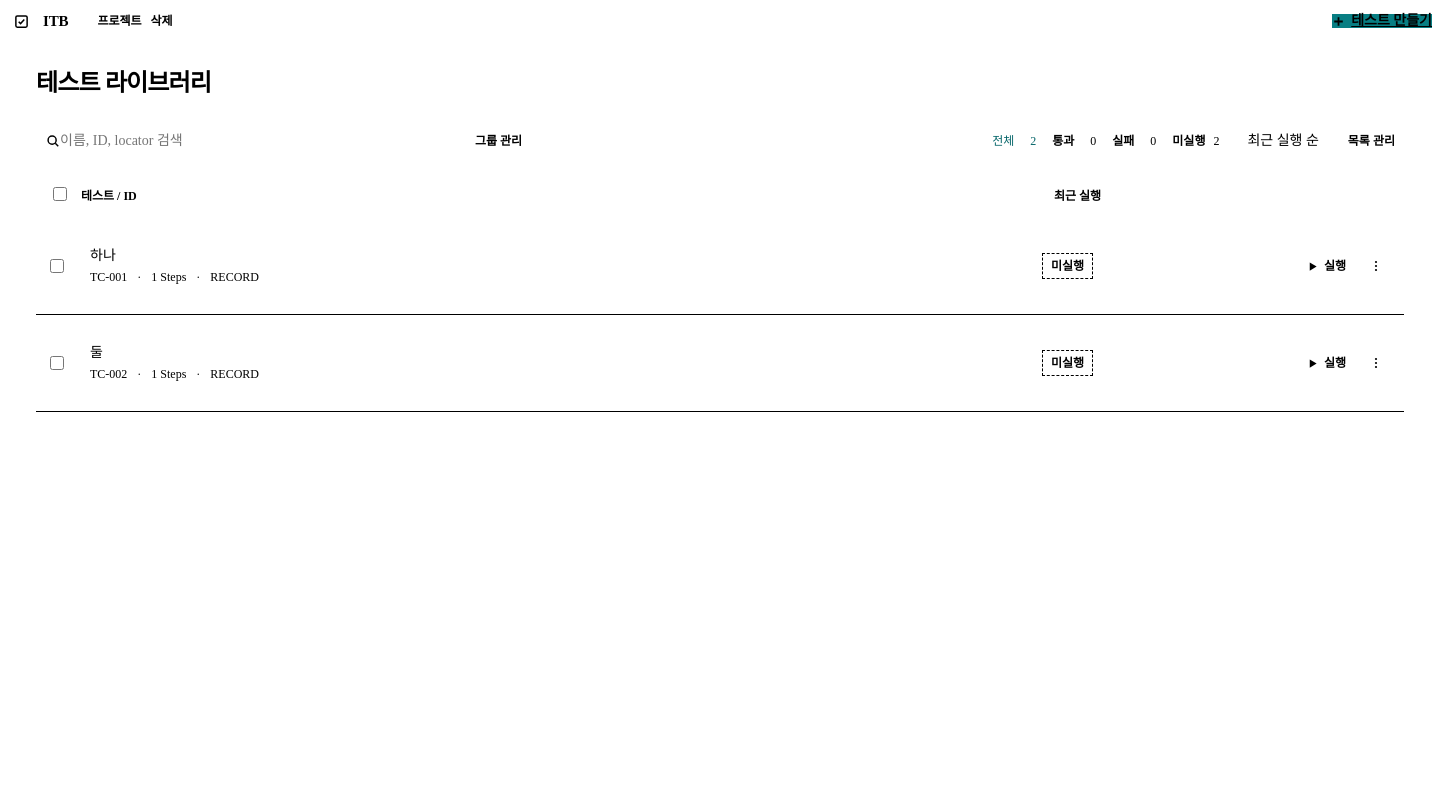
Test: 이미 없던 것을 옮겼다고 말하지 않는다 (AS-046) › 섞여 있으면 둘 다 말한다 — 옮긴 자리도, 이미 없던 것도
Expected: the text "하나" is shown, [90,248,116,263]
Click the checkbox named "하나 선택" at [57, 266], box [50,259,64,273]
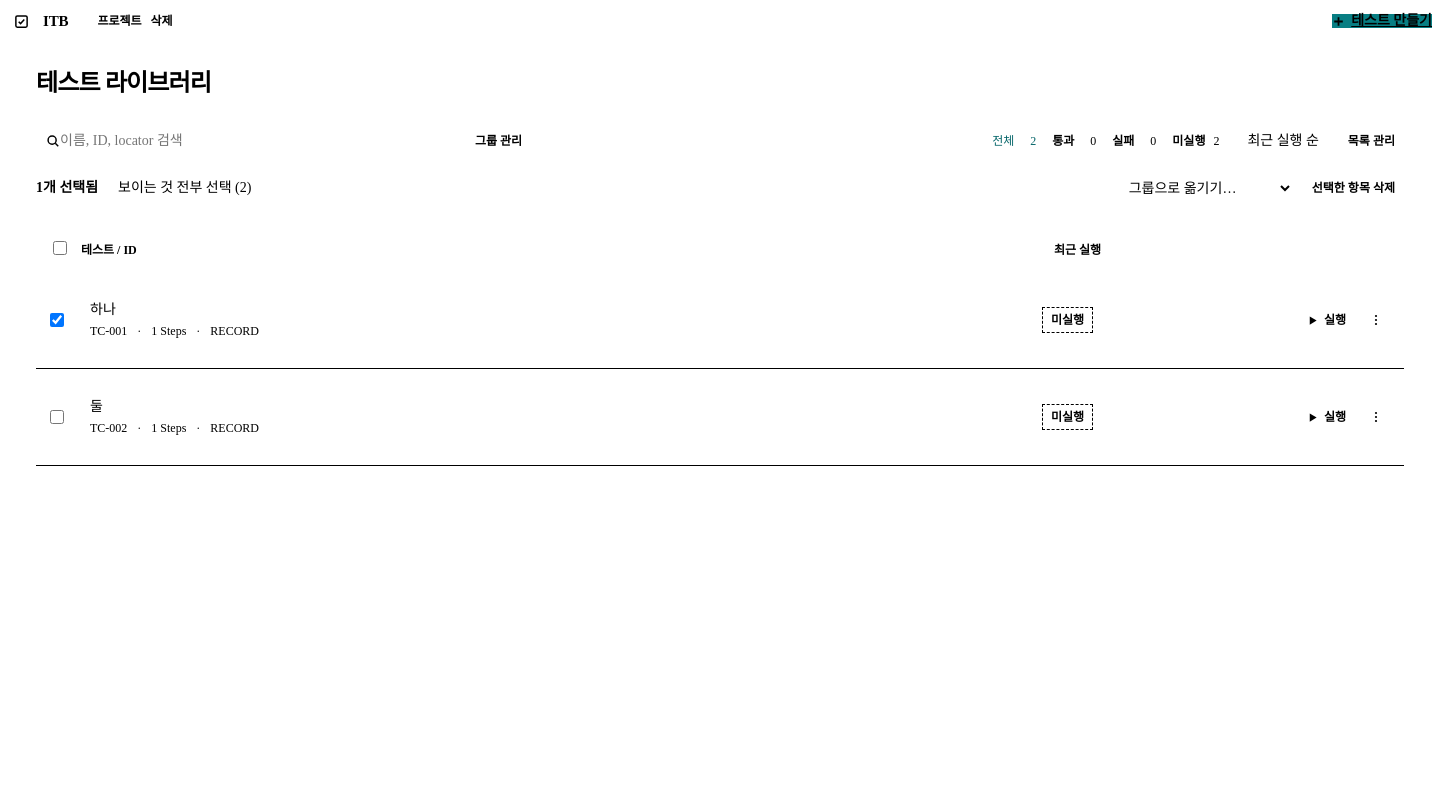
Click the checkbox named "둘 선택" at [57, 417], box [50,410,64,424]
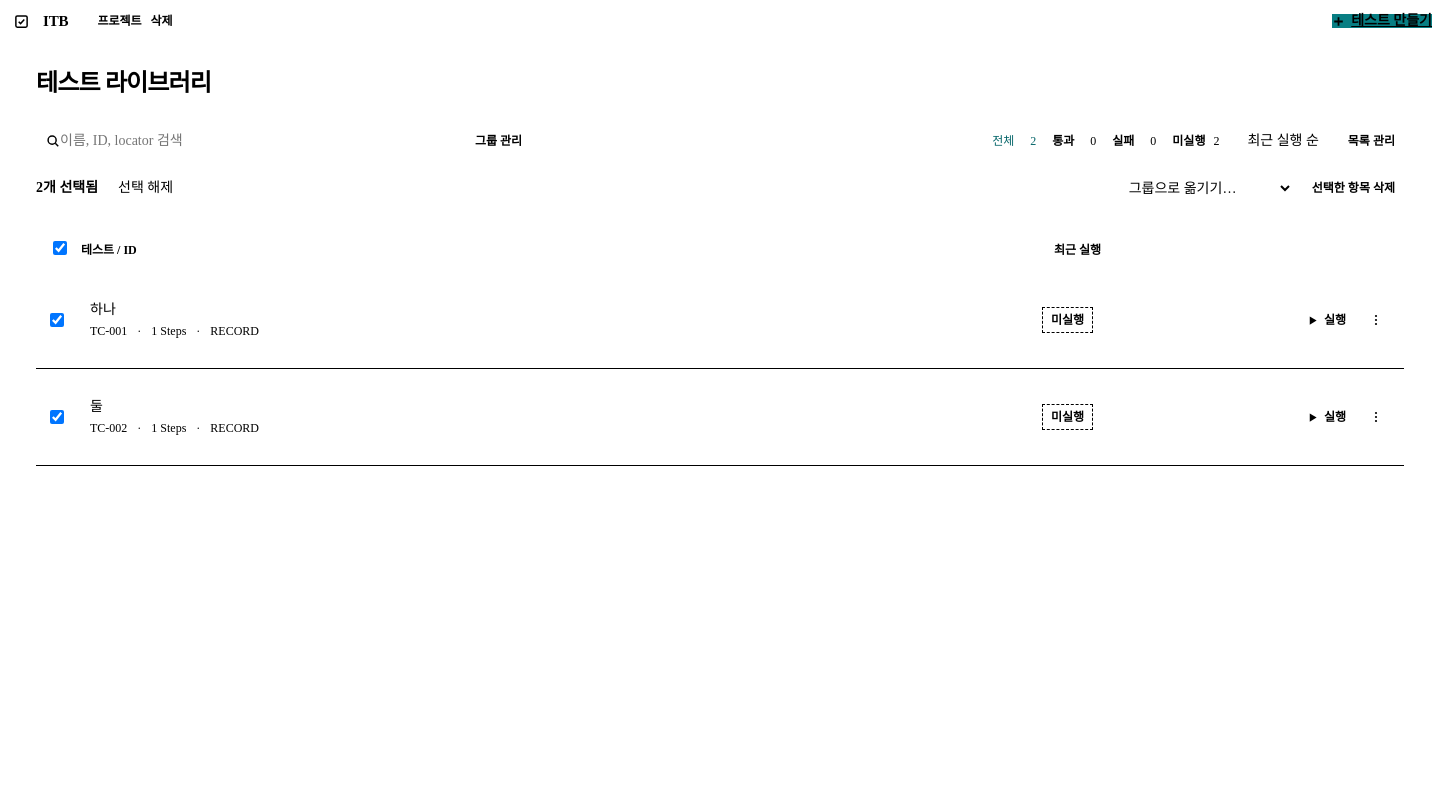
Click the button "선택한 항목 삭제" at [1353, 188], box [1303,181,1404,195]
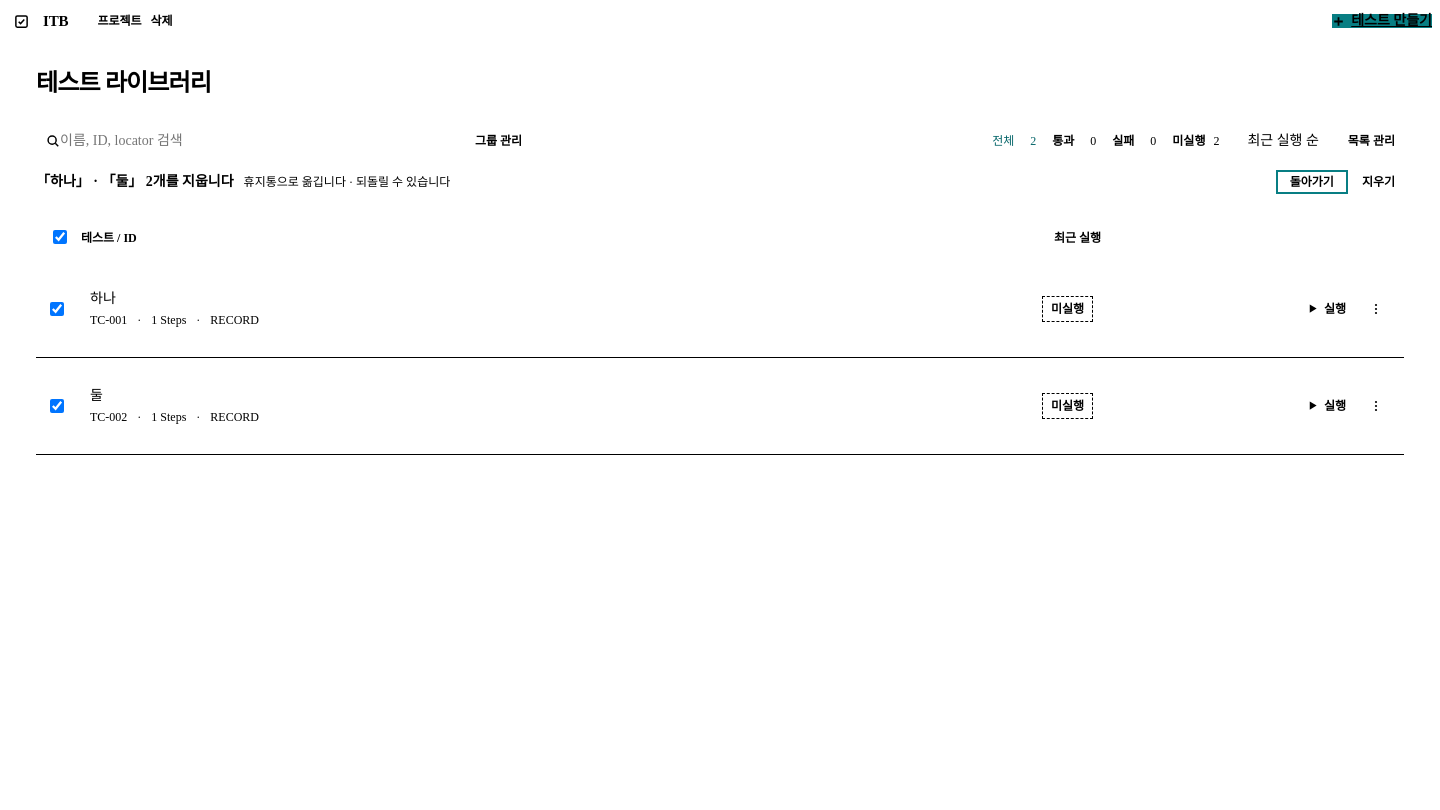
Click the button "지우기" at [1378, 182], box [1353,175,1404,189]
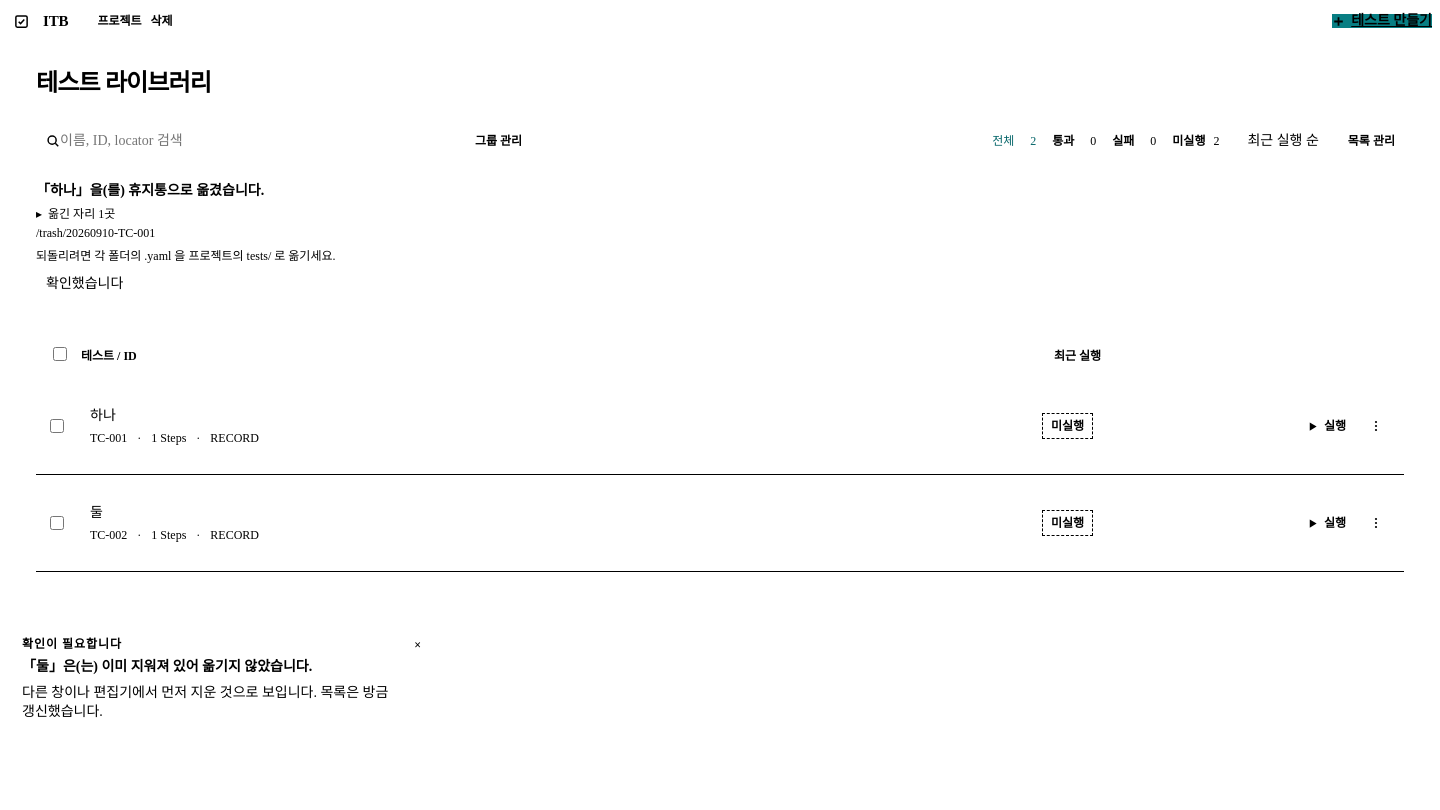
Expected: the message is shown, [36,183,336,298]
Expected: the message that starts with "확인이 필요합니다" is shown, [8,638,407,722]
Expected: the text "/trash/20260910-TC-001" is shown, [36,226,155,240]
